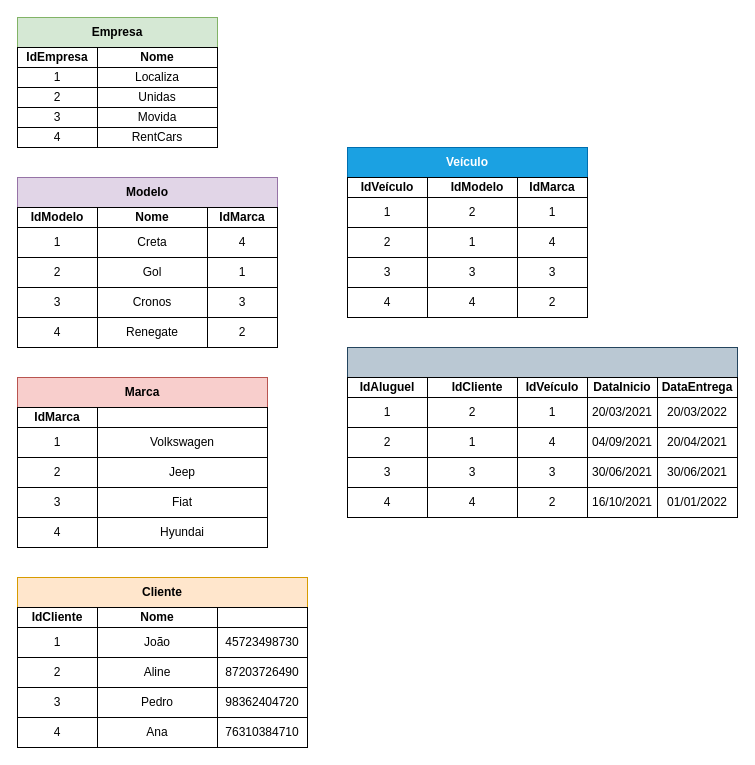
Some shapes in this 755 by 765 pixel diagram are drawn without their labels. Each missing label, with the centre of its shape:
Aluguel: point 542,362
CPF: point 262,617
Telefone: point 182,417
